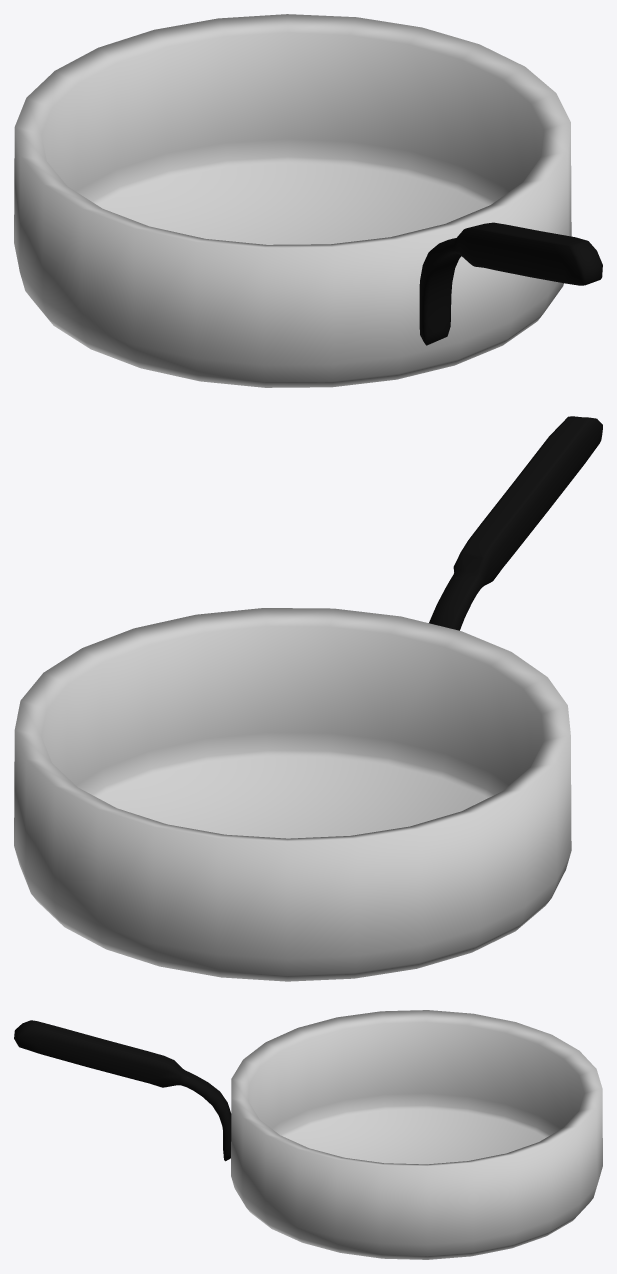
Rendered from Pan-final.fbx.
3 renders of one model, top to bottom at view 1: azimuth 30°, elevation 25°; view 2: azimuth 150°, elevation 25°; view 3: azimuth 270°, elevation 25°, orthographic. The views are drawn at different scales.
Visible parts, largest first — view 1: pan; view 2: pan; view 3: pan.
Boxes of the visible parts, left/top/right/bottom form: pan: left=14, top=14, right=602, bottom=387; pan: left=14, top=416, right=602, bottom=981; pan: left=14, top=1010, right=602, bottom=1259.
Size of the model in its own units: 1056 by 510 by 1669.
